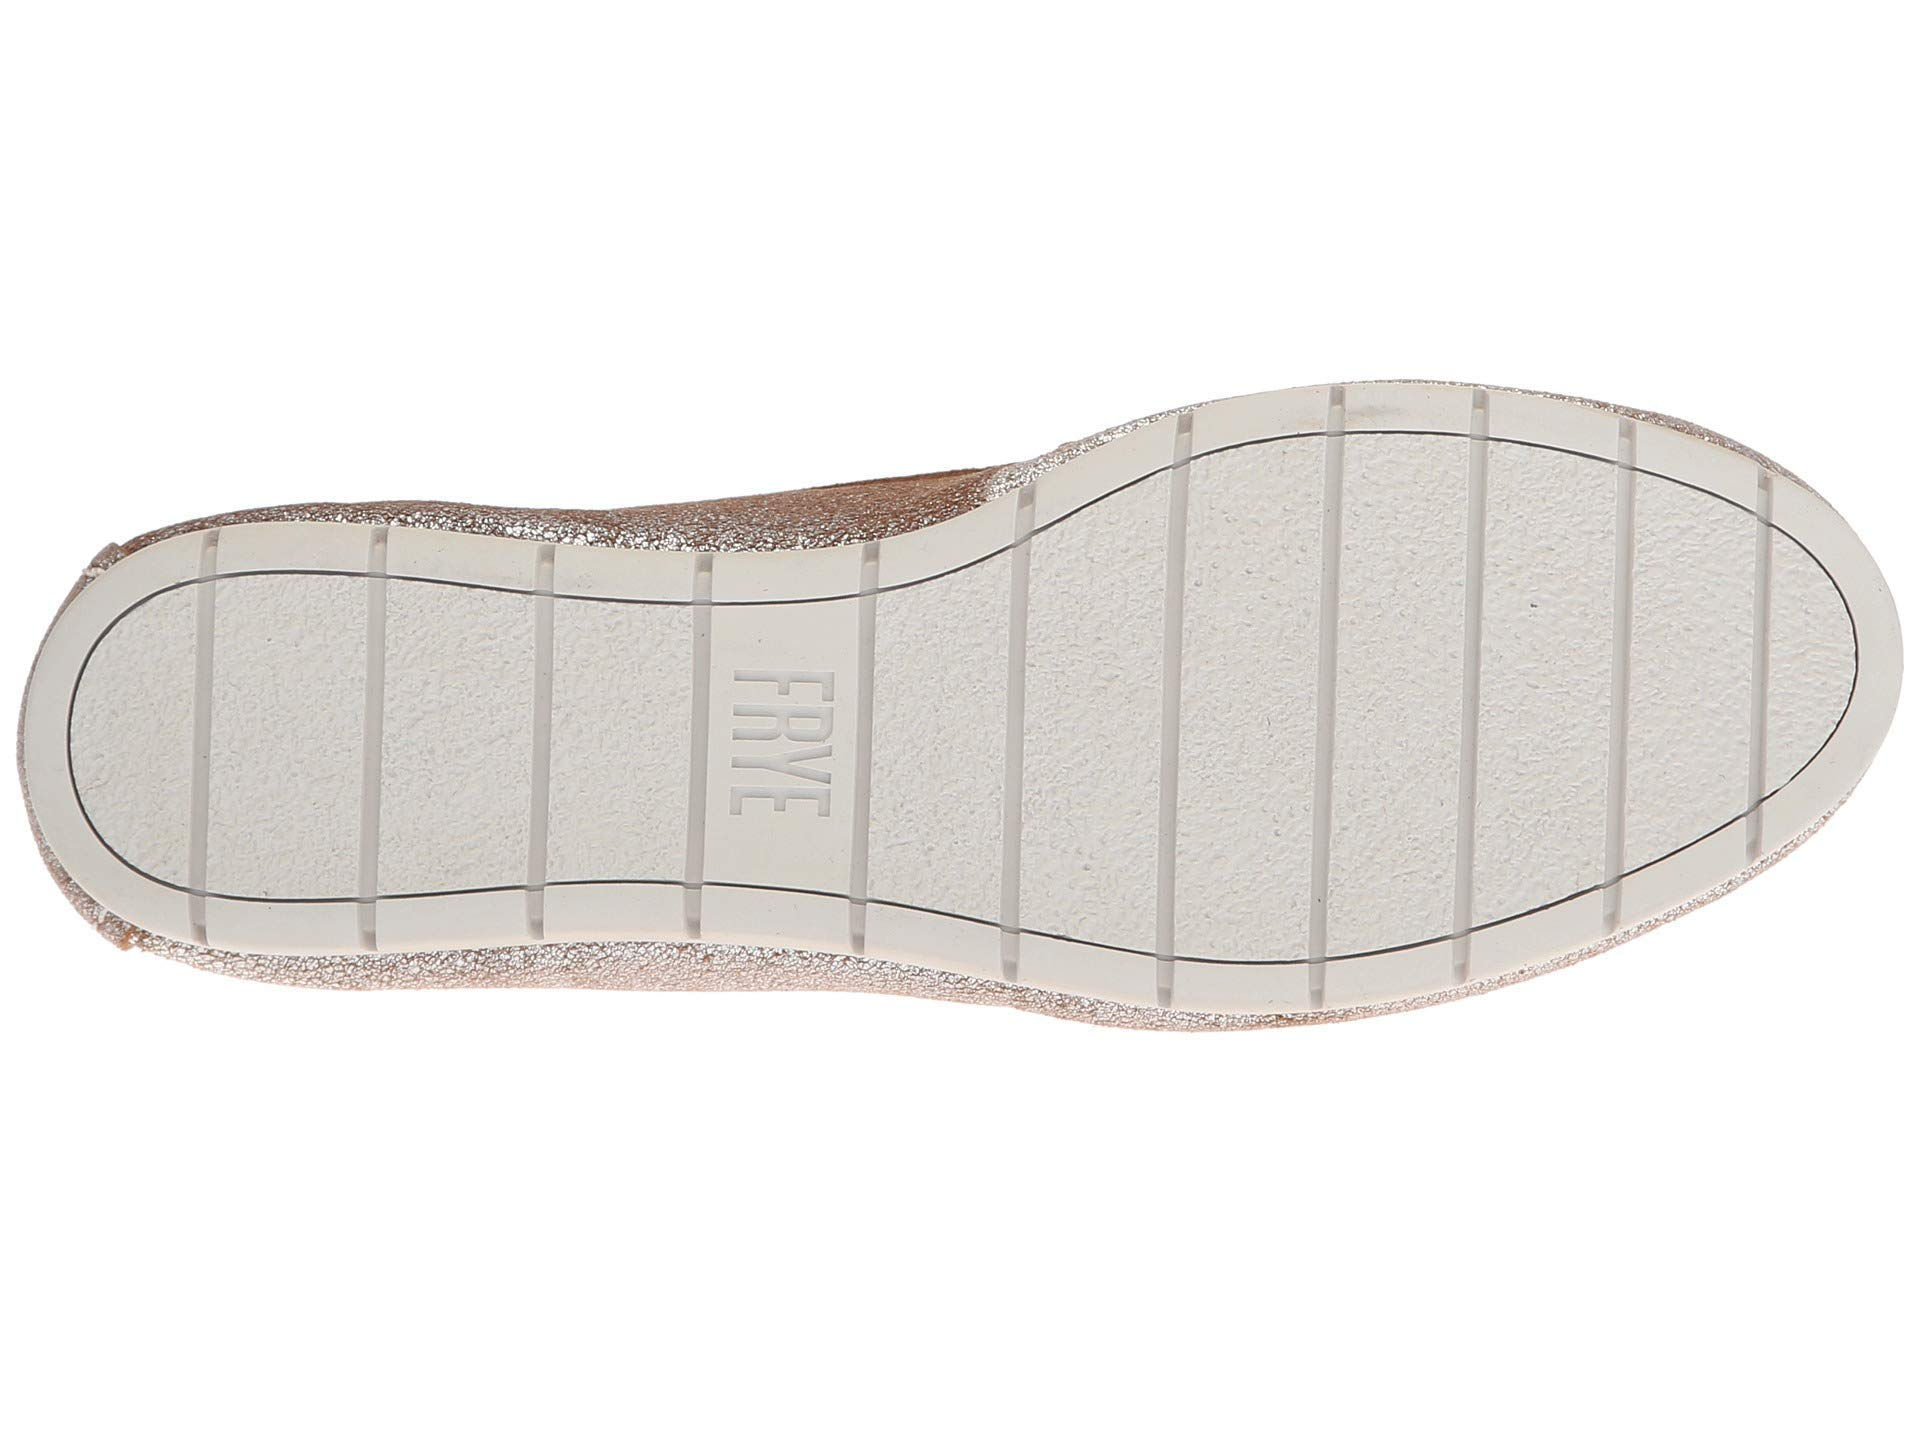quad: (605, 558, 1040, 927)
text: (605, 558, 1040, 927)
